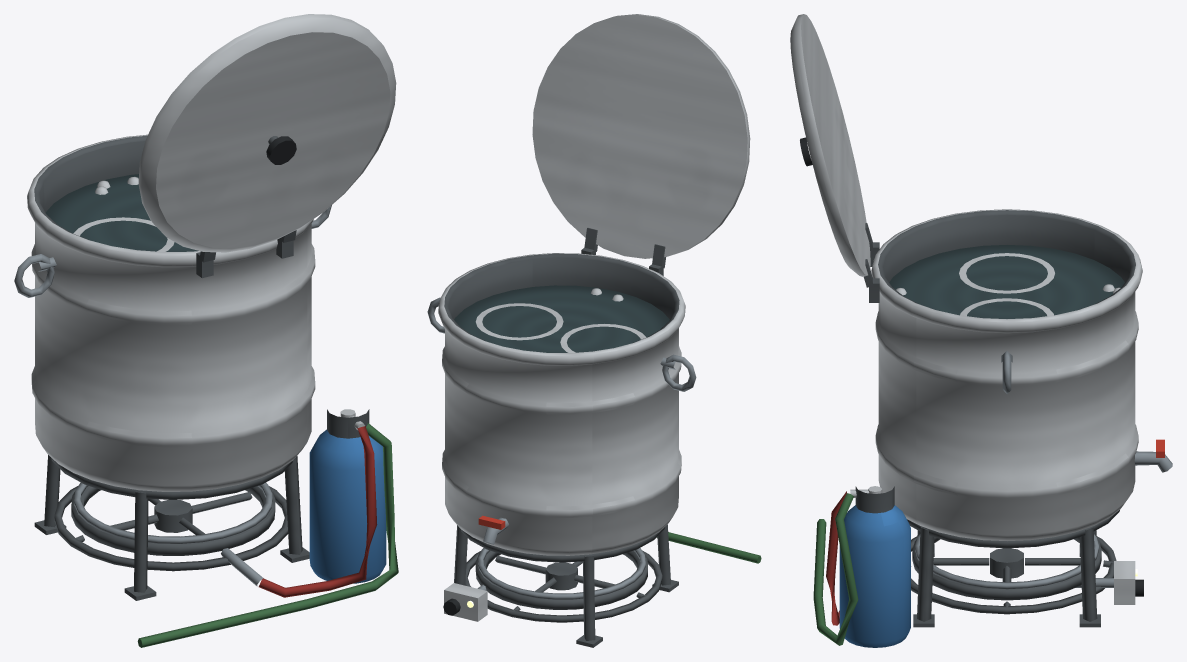
The model's file is pot.glb.
3 views of the same model, side by side, from view 1: azimuth 30°, elevation 25°; view 2: azimuth 150°, elevation 25°; view 3: azimuth 270°, elevation 25° (orthographic). The views are drawn at different scales.
Visible parts, largest first — view 1: pot_body, lid, gas_bottle, stove_base; view 2: pot_body, lid, stove_base, gas_bottle; view 3: pot_body, gas_bottle, stove_base, lid.
Part boxes in pixels (x1,y1,x2,y2): pot_body: [14, 134, 331, 491]; lid: [138, 14, 396, 262]; gas_bottle: [137, 409, 398, 647]; stove_base: [34, 455, 309, 600]; pot_body: [427, 248, 696, 555]; lid: [532, 14, 750, 268]; stove_base: [443, 524, 678, 647]; gas_bottle: [657, 532, 761, 563]; pot_body: [869, 209, 1172, 540]; gas_bottle: [813, 486, 910, 647]; stove_base: [907, 510, 1143, 627]; lid: [790, 14, 873, 287].
Size of the model in its own units: 0.954 by 1.74 by 1.07.
10 materials, 6 textured.
